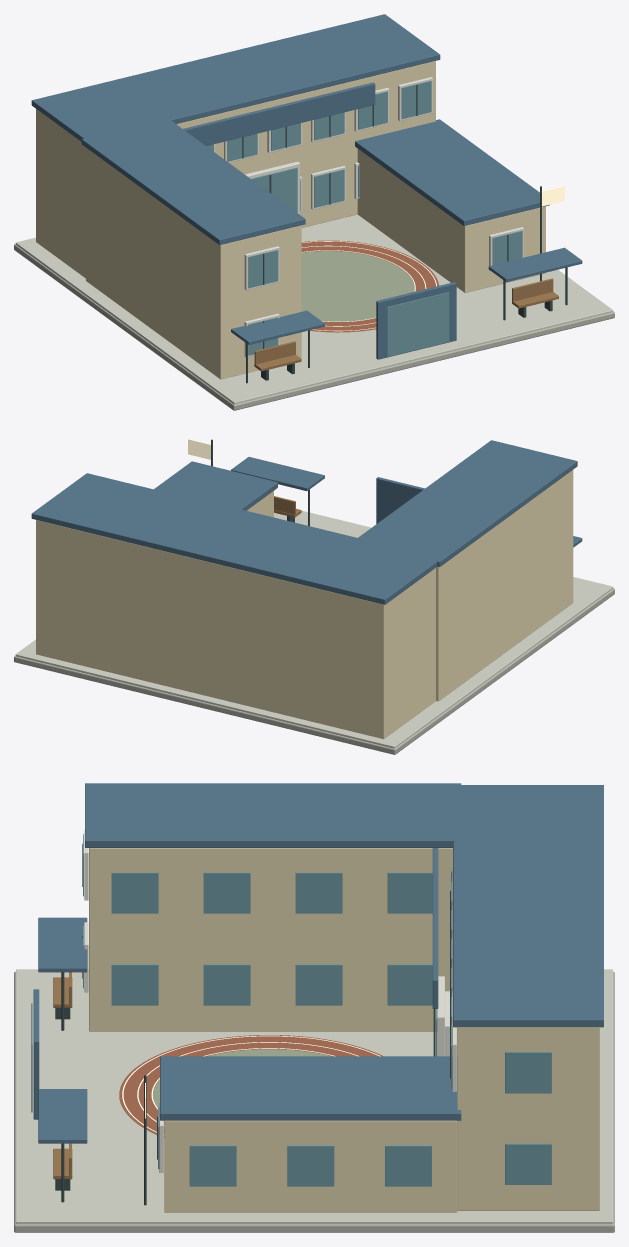
The model's file is elementary-school.glb.
3 views of the same model, one above another, from view 1: azimuth 30°, elevation 25°; view 2: azimuth 150°, elevation 25°; view 3: azimuth 270°, elevation 25° (orthographic). The views are drawn at different scales.
Parts seen in each view (by area): view 1: LeftClassrooms, RearClassroomsRoof, Paving, RearClassrooms, LeftClassroomsRoof, RightActivityWing, RightActivityWingRoof, TrackInfield, SchoolSign, Lot, GateOpening, TrackOval (+14 smaller); view 2: RearClassrooms, RearClassroomsRoof, LeftClassrooms, LeftClassroomsRoof, Paving, Lot, RightActivityWingRoof, CoveredBenchRoof.001, FrontGate; view 3: LeftClassrooms, Paving, RearClassroomsRoof, LeftClassroomsRoof, RearClassrooms, RightActivityWing, RightActivityWingRoof, Lot, TrackOval, CoveredBenchRoof.001, CoveredBenchRoof, CampusSideWindow.002 (+16 smaller).
Boxes of the visible parts, x1,y1,x2,y2 form: LeftClassrooms: (86, 148, 301, 379); RearClassroomsRoof: (31, 14, 440, 141); Paving: (15, 214, 613, 404); RearClassrooms: (36, 61, 435, 278); LeftClassroomsRoof: (81, 118, 305, 245); RightActivityWing: (357, 149, 545, 292); RightActivityWingRoof: (355, 119, 549, 225); TrackInfield: (301, 251, 414, 321); SchoolSign: (183, 82, 375, 145); Lot: (14, 244, 614, 410); GateOpening: (387, 292, 449, 356); TrackOval: (301, 240, 438, 332); RearClassrooms: (36, 520, 435, 739); RearClassroomsRoof: (31, 473, 438, 604); LeftClassrooms: (436, 470, 573, 701); LeftClassroomsRoof: (355, 440, 577, 567); Paving: (15, 510, 613, 748); Lot: (14, 588, 614, 754); RightActivityWingRoof: (154, 461, 277, 510); CoveredBenchRoof.001: (231, 457, 324, 490); FrontGate: (376, 477, 424, 523); LeftClassrooms: (89, 848, 452, 1031); Paving: (16, 969, 612, 1224); RearClassroomsRoof: (453, 785, 603, 1027); LeftClassroomsRoof: (85, 783, 461, 847); RearClassrooms: (457, 1027, 599, 1210); RightActivityWing: (164, 1120, 457, 1212); RightActivityWingRoof: (160, 1056, 461, 1120); Lot: (14, 971, 614, 1232); TrackOval: (119, 1035, 383, 1137); CoveredBenchRoof.001: (38, 1089, 87, 1143); CoveredBenchRoof: (38, 917, 87, 972); CampusSideWindow.002: (111, 964, 158, 1005).
Bounding box in the file's own units: 16 × 5.99 × 16.
